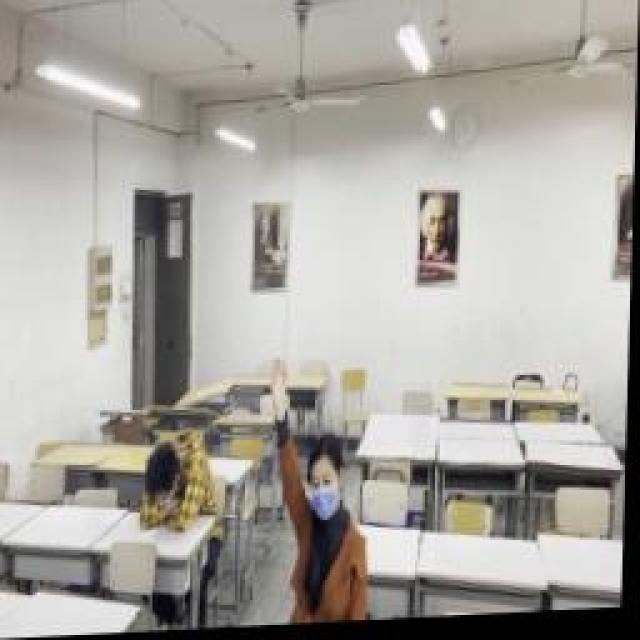sleep: (140, 427, 218, 535)
study: (268, 358, 378, 628)
